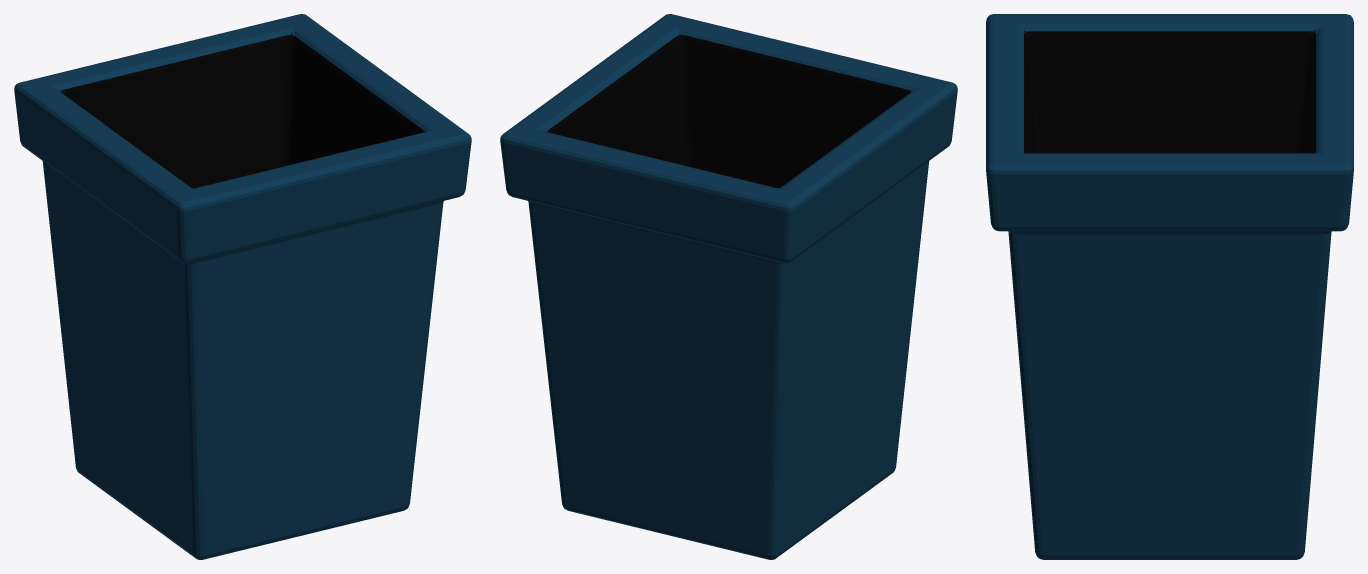
3 views of the same model, side by side, from view 1: azimuth 30°, elevation 25°; view 2: azimuth 150°, elevation 25°; view 3: azimuth 270°, elevation 25° (orthographic). The views are drawn at different scales.
Parts seen in each view (by area): view 1: Cube; view 2: Cube; view 3: Cube.
Part boxes in pixels (x1=…): Cube: x1=14, y1=14, x2=471, y2=559; Cube: x1=500, y1=14, x2=957, y2=559; Cube: x1=986, y1=14, x2=1353, y2=559.
Bounding box in the file's own units: 0.8003 × 0.8003 × 1.
